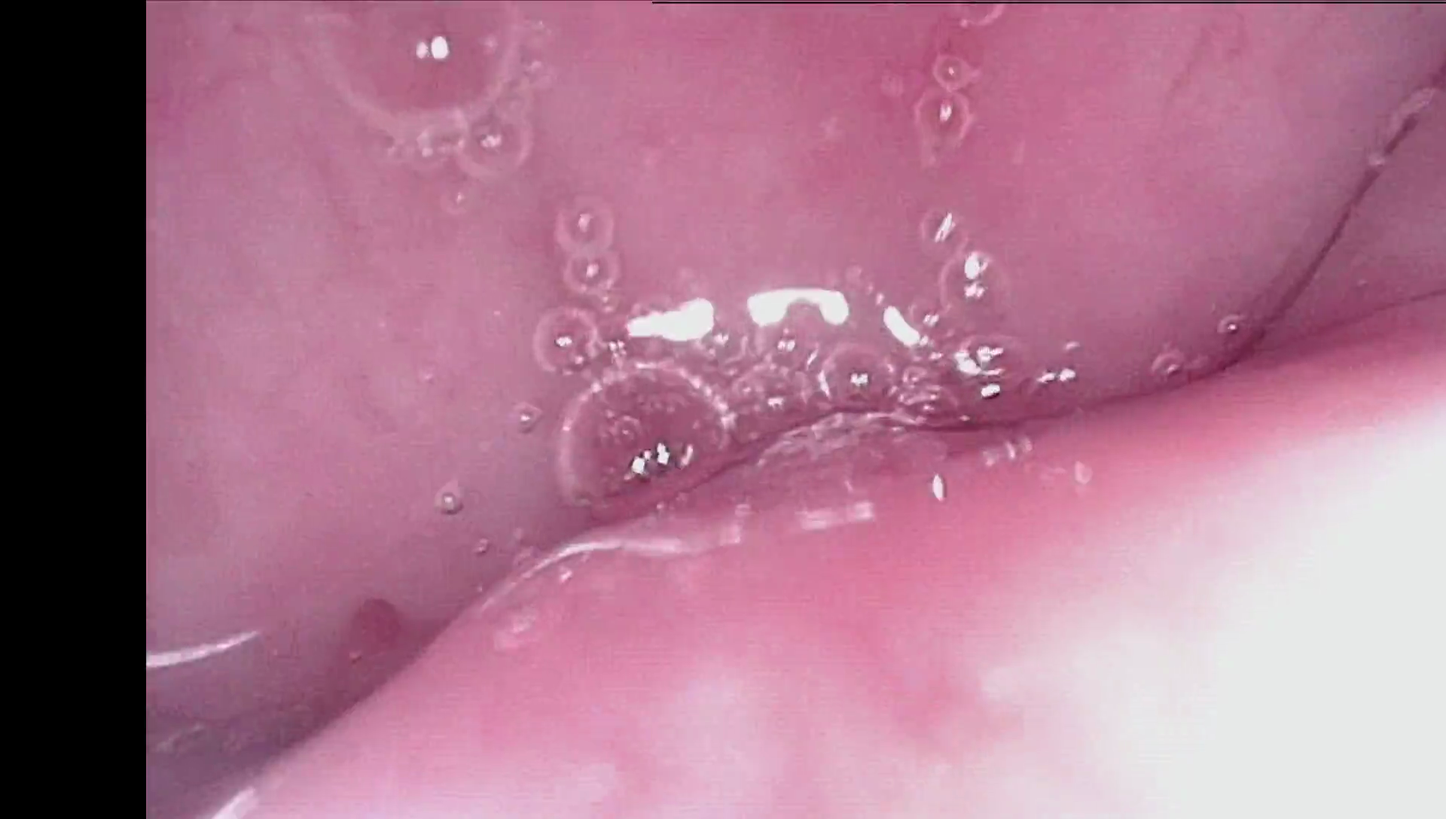close_wall: (773, 369, 1446, 819)
